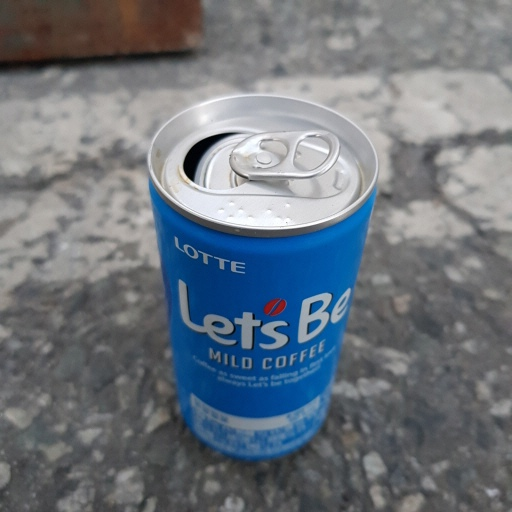Metal_0: (143, 91, 380, 460)
